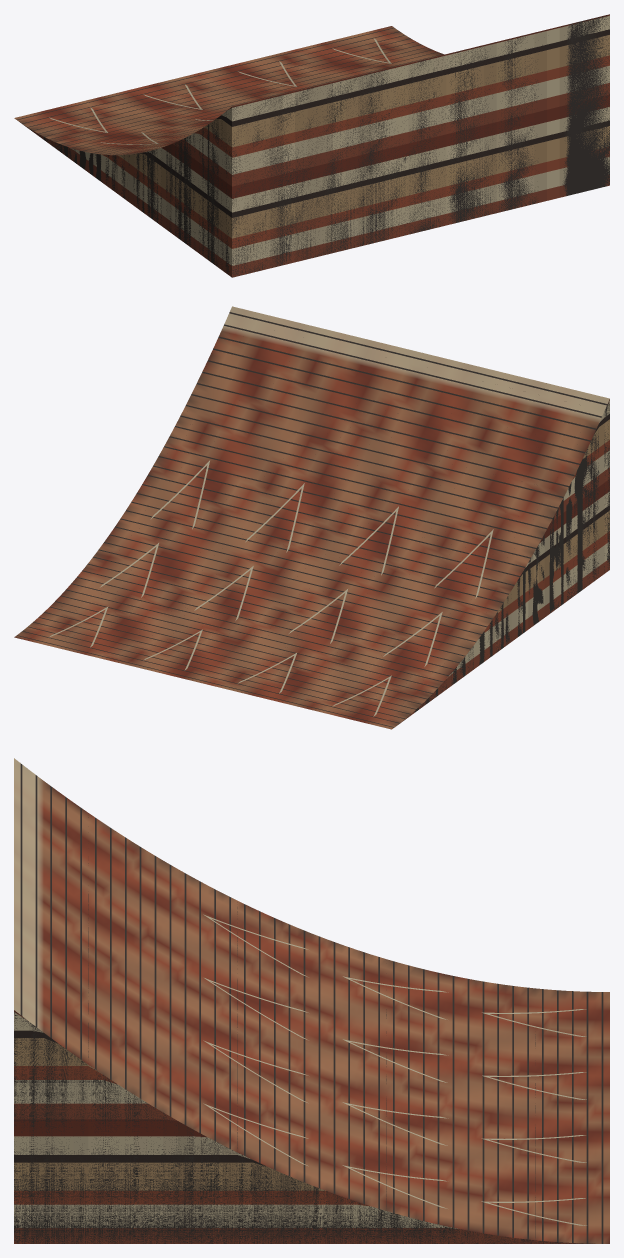
The model's file is mesa_lip_kicker_60x26x60.glb.
3 views of the same model, one above another, from view 1: azimuth 30°, elevation 25°; view 2: azimuth 150°, elevation 25°; view 3: azimuth 270°, elevation 25° (orthographic). The views are drawn at different scales.
Visible parts, largest first — view 1: mesa_lip_kicker_60x26x60, mesa_lip_kicker_60x26x60-col; view 2: mesa_lip_kicker_60x26x60, mesa_lip_kicker_60x26x60-col; view 3: mesa_lip_kicker_60x26x60, mesa_lip_kicker_60x26x60-col.
Boxes of the visible parts, box(x1,y1,x2,y2) form: mesa_lip_kicker_60x26x60: box(14, 14, 609, 277); mesa_lip_kicker_60x26x60-col: box(16, 14, 609, 277); mesa_lip_kicker_60x26x60: box(14, 306, 609, 729); mesa_lip_kicker_60x26x60-col: box(17, 312, 609, 727); mesa_lip_kicker_60x26x60: box(14, 758, 609, 1243); mesa_lip_kicker_60x26x60-col: box(14, 763, 603, 1243).
Size of the model in its own units: 60 by 26 by 60.
